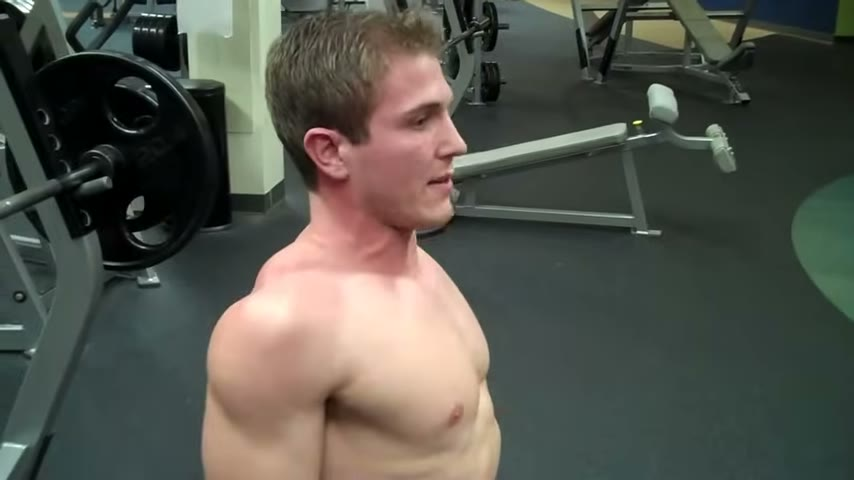barbell_plate_side: (99, 8, 244, 469)
